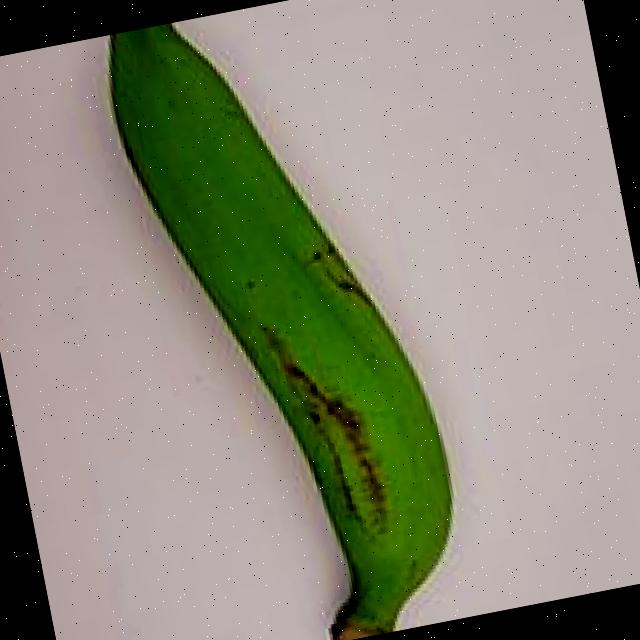Raw: (56, 0, 511, 640)
